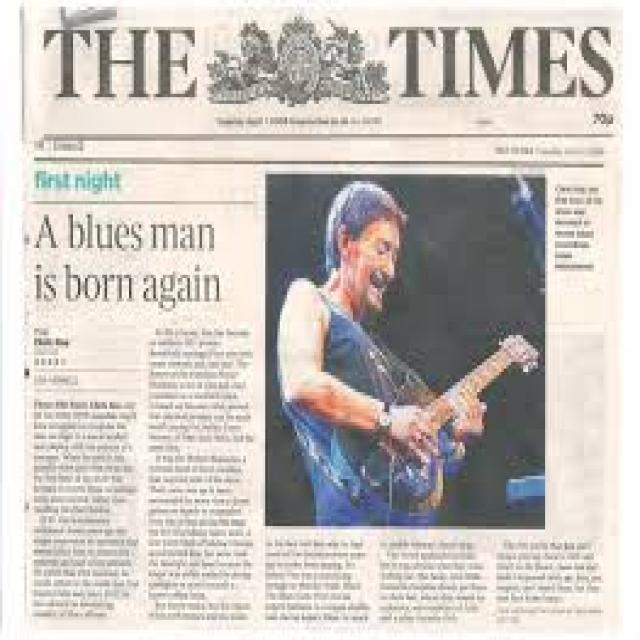paper: (12, 13, 640, 616)
